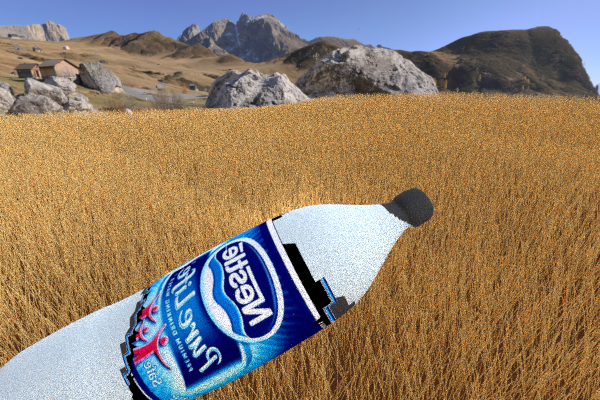bottle: (0, 188, 433, 400)
